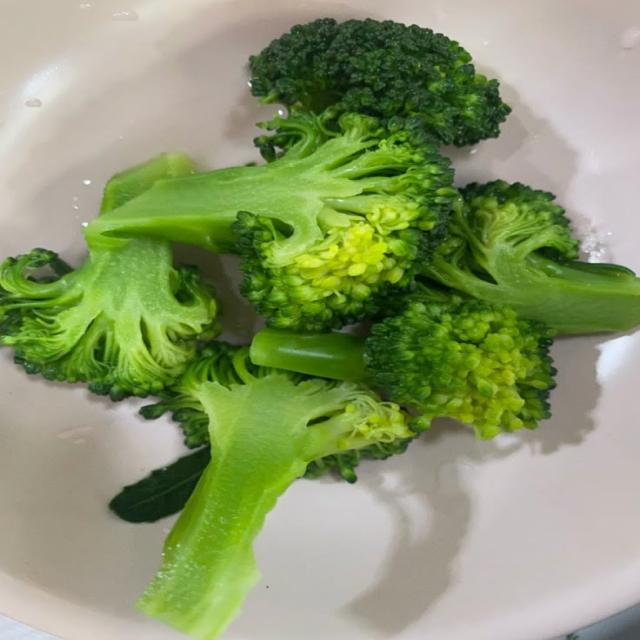broccoli: (137, 347, 415, 639), (85, 112, 457, 330), (251, 289, 555, 439), (0, 239, 219, 399), (419, 181, 639, 333), (250, 18, 511, 146), (140, 342, 241, 448)
